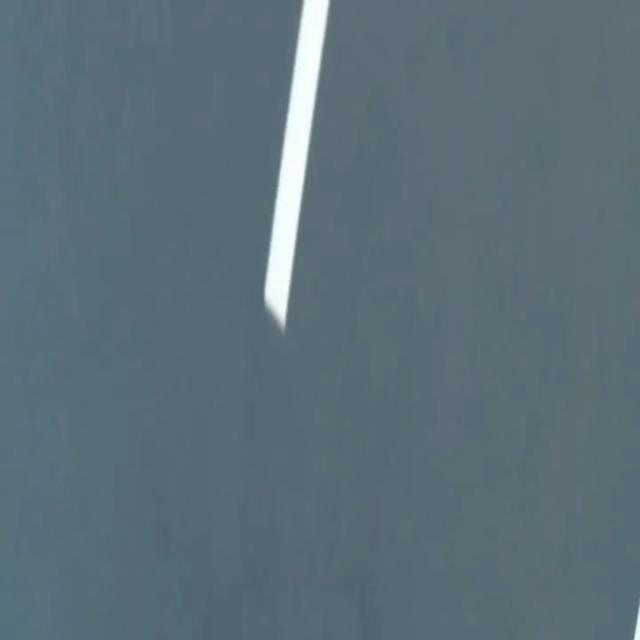center: (265, 0, 330, 331)
right: (634, 602, 639, 639)
